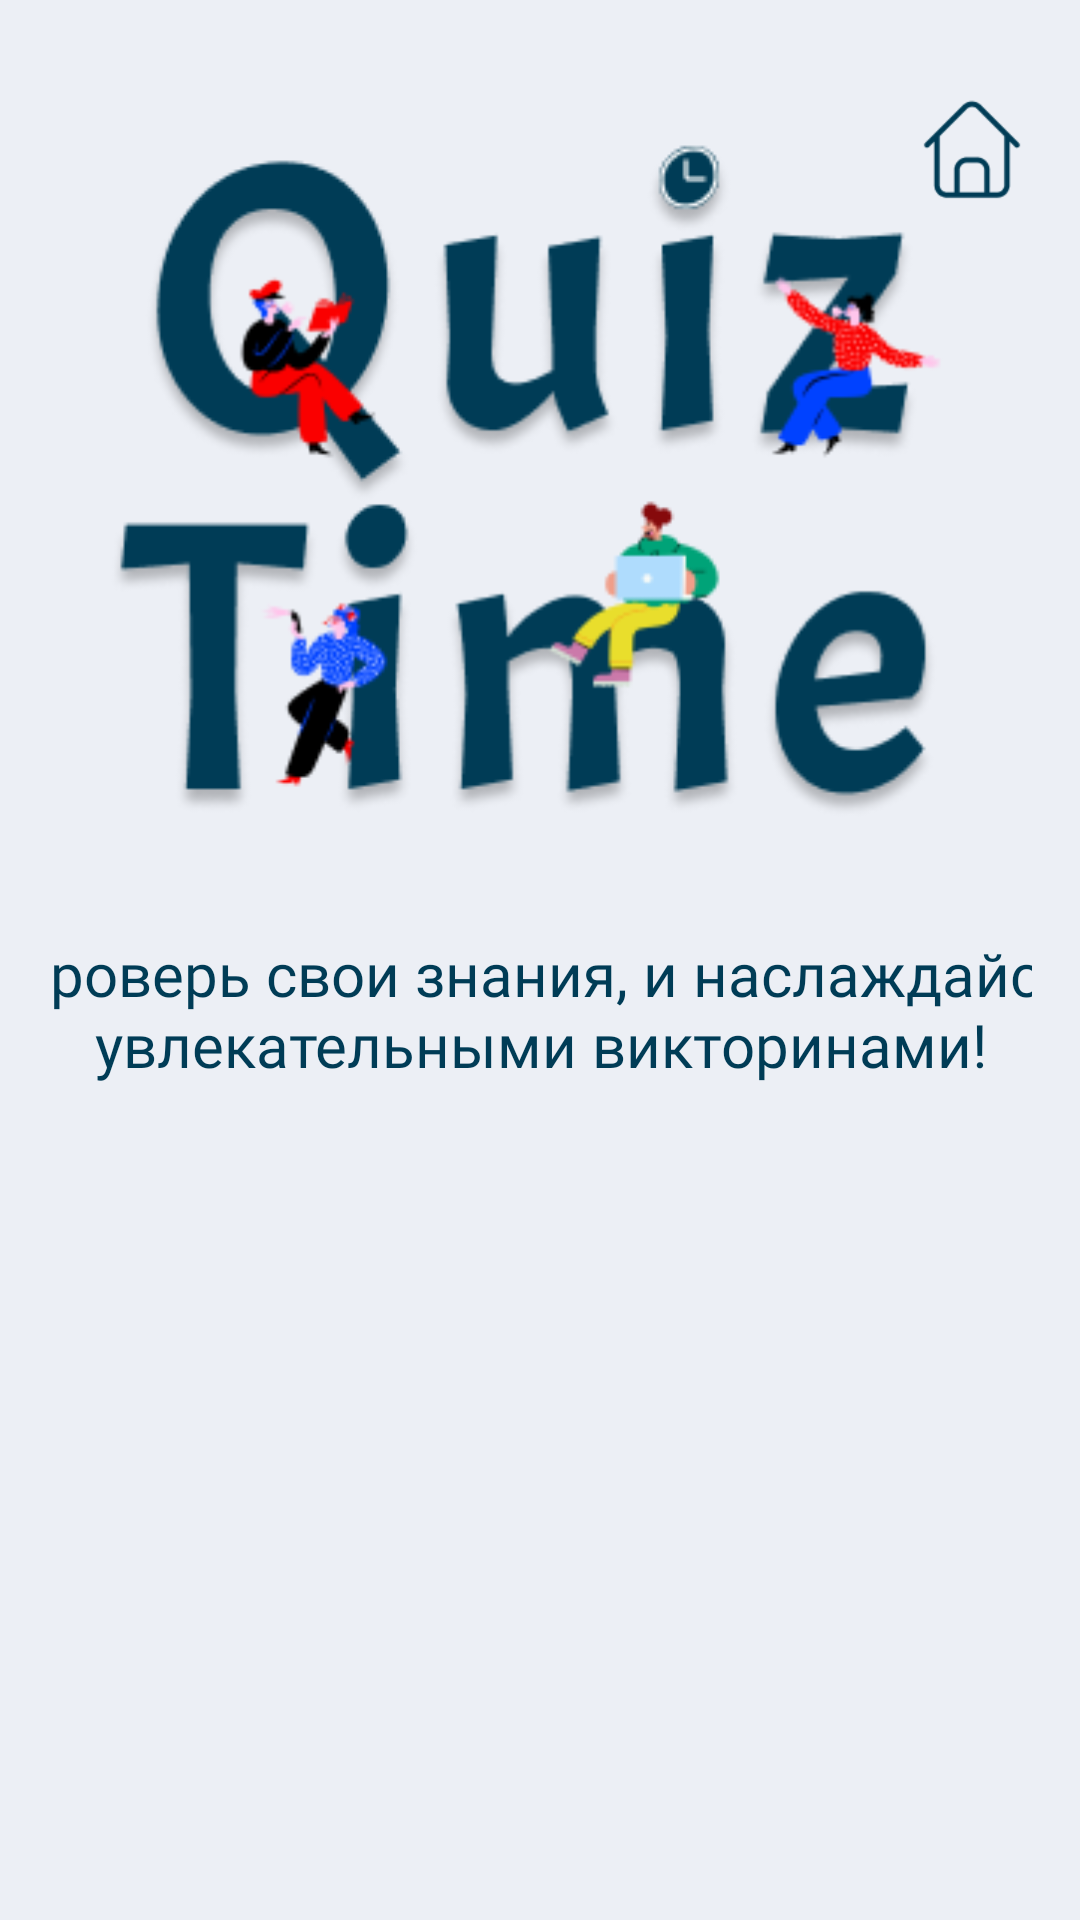

Point at icon controls on the screen. Image size 1080 x 1920, points as [x,y].
home: [972,149]
